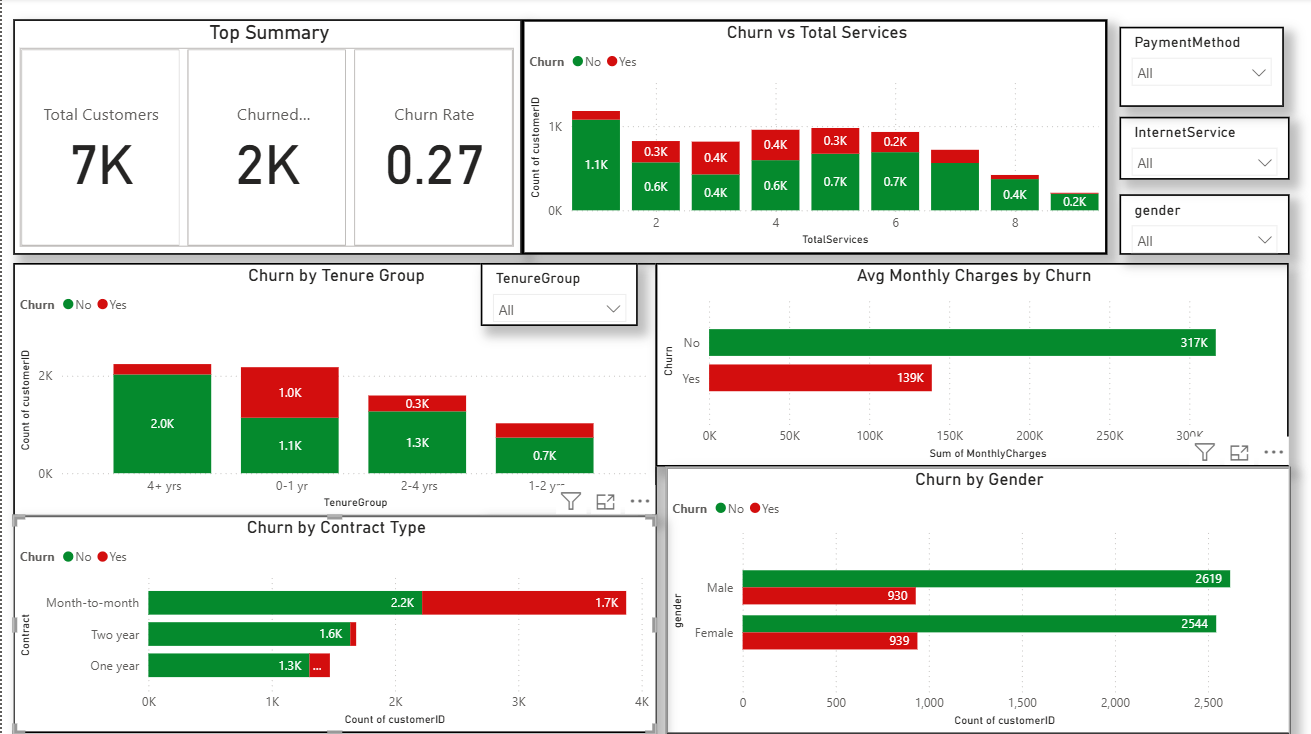

The dashboard page shown, as its layout file describes it:
{"tool":"powerbi","page":{"name":"Page 1","canvas":[1280,720],"ordinal":0},"visuals":[{"type":"cardVisual","title":"Top Summary","fields":{"Data":["Telco-Customer-Churn_Final.Total Customers","Telco-Customer-Churn_Final.Churned Customers","Telco-Customer-Churn_Final.Churn Rate"]},"box":[10.7,20.4,498,230.5],"z":0},{"type":"columnChart","title":"Churn by Tenure Group","fields":{"Series":["Telco-Customer-Churn_Final.Churn"],"Category":["Telco-Customer-Churn_Final.TenureGroup"],"Y":["CountNonNull(Telco-Customer-Churn_Final.customerID)"]},"box":[10.7,258.7,629.3,248],"z":1000},{"type":"barChart","title":"Churn by Contract Type","fields":{"Category":["Telco-Customer-Churn_Final.Contract"],"Series":["Telco-Customer-Churn_Final.Churn"],"Y":["CountNonNull(Telco-Customer-Churn_Final.customerID)"]},"box":[10.7,506.7,629.3,213],"z":2000},{"type":"columnChart","title":"Churn vs Total Services","fields":{"Series":["Telco-Customer-Churn_Final.Churn"],"Category":["Telco-Customer-Churn_Final.TotalServices"],"Y":["CountNonNull(Telco-Customer-Churn_Final.customerID)"]},"box":[508.7,20.4,572.9,230.5],"z":3000},{"type":"clusteredBarChart","title":"Avg Monthly Charges by Churn","fields":{"Category":["Telco-Customer-Churn_Final.Churn"],"Y":["Sum(Telco-Customer-Churn_Final.MonthlyCharges)"]},"box":[640,258.7,619.6,199.4],"z":4000},{"type":"slicer","fields":{"Values":["Telco-Customer-Churn_Final.gender"]},"box":[1093.3,191.6,166.3,59.3],"z":5000},{"type":"slicer","fields":{"Values":["Telco-Customer-Churn_Final.InternetService"]},"box":[1093.3,116.7,166.3,61.3],"z":6000},{"type":"slicer","fields":{"Values":["Telco-Customer-Churn_Final.Contract"]},"box":[468.8,506.7,153.7,66.1],"z":7000},{"type":"slicer","fields":{"Values":["Telco-Customer-Churn_Final.PaymentMethod"]},"box":[1093.3,28.2,160.5,78.8],"z":8000},{"type":"slicer","fields":{"Values":["Telco-Customer-Churn_Final.TenureGroup"]},"box":[468.8,258.7,153.7,61.3],"z":9000},{"type":"clusteredBarChart","title":"Churn by Gender","fields":{"Series":["Telco-Customer-Churn_Final.Churn"],"Category":["Telco-Customer-Churn_Final.gender"],"Y":["CountNonNull(Telco-Customer-Churn_Final.customerID)"]},"box":[648.8,458.1,610.8,261.6],"z":10000}]}

Visuals, with their boxes in screenshot pixels (x1, y1, x2, y2), scaled from the page's 1280x720 canvas onto the 1311x734 screenshot:
"Top Summary" cardVisual: x1=11 y1=21 x2=521 y2=256
"Churn by Tenure Group" columnChart: x1=11 y1=264 x2=656 y2=517
"Churn by Contract Type" barChart: x1=11 y1=517 x2=656 y2=733
"Churn vs Total Services" columnChart: x1=521 y1=21 x2=1108 y2=256
"Avg Monthly Charges by Churn" clusteredBarChart: x1=656 y1=264 x2=1290 y2=467
slicer - Telco-Customer-Churn_Final.gender: x1=1120 y1=195 x2=1290 y2=256
slicer - Telco-Customer-Churn_Final.InternetService: x1=1120 y1=119 x2=1290 y2=181
slicer - Telco-Customer-Churn_Final.Contract: x1=480 y1=517 x2=638 y2=584
slicer - Telco-Customer-Churn_Final.PaymentMethod: x1=1120 y1=29 x2=1284 y2=109
slicer - Telco-Customer-Churn_Final.TenureGroup: x1=480 y1=264 x2=638 y2=326
"Churn by Gender" clusteredBarChart: x1=665 y1=467 x2=1290 y2=733
